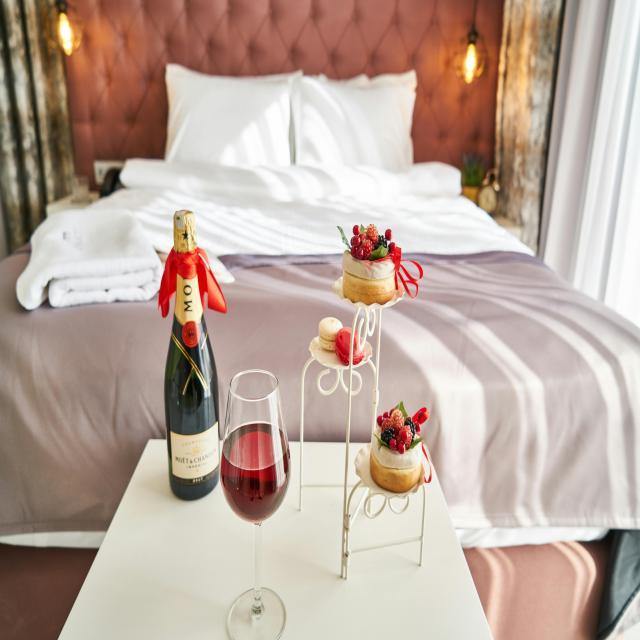bed: (0, 33, 640, 543)
